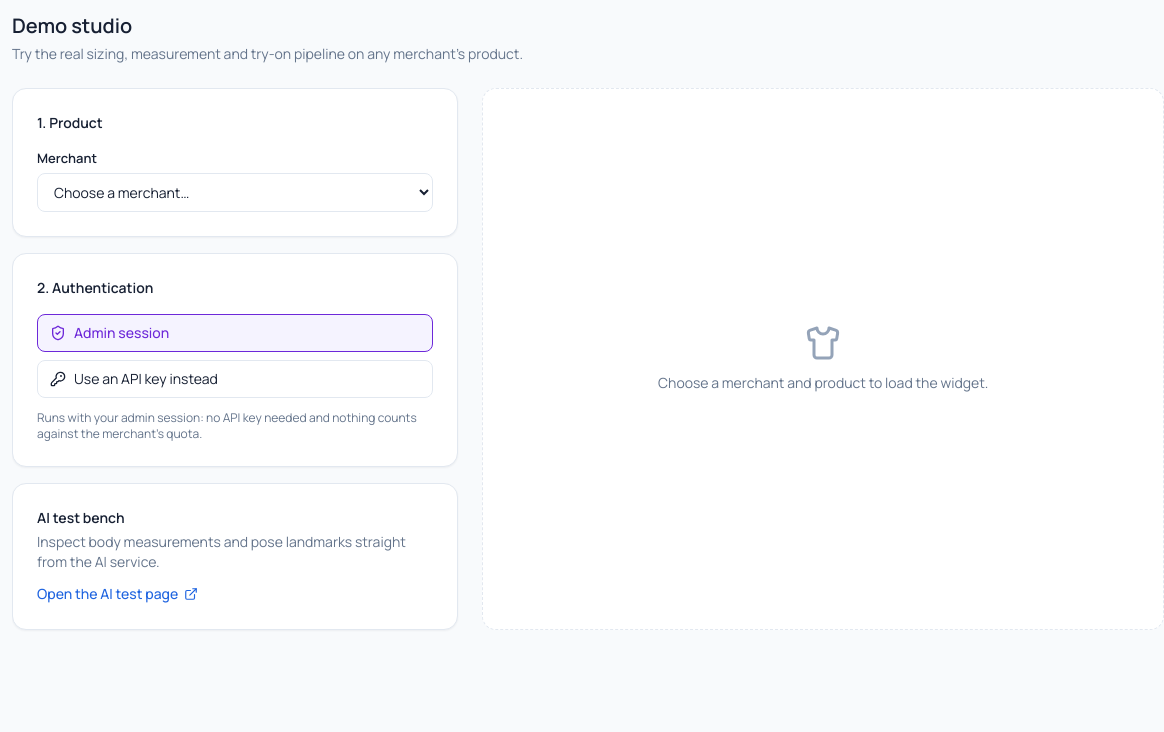
Scenario: AdminDemoStudioPage › says so when the merchant has no products
Select "Blue Tees" in the dropdown labelled "Merchant" at (235, 192), box [37, 172, 433, 212]
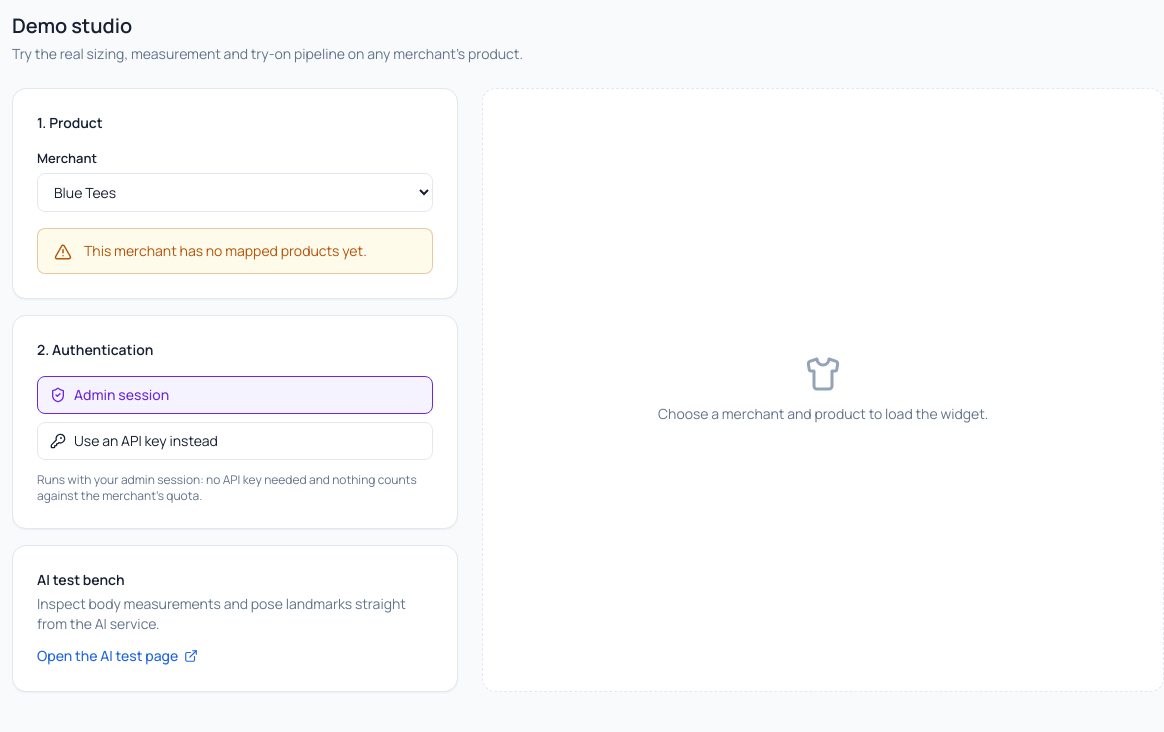
Result: the text "This merchant has no mapped products yet." is shown at [84, 240, 367, 260]
